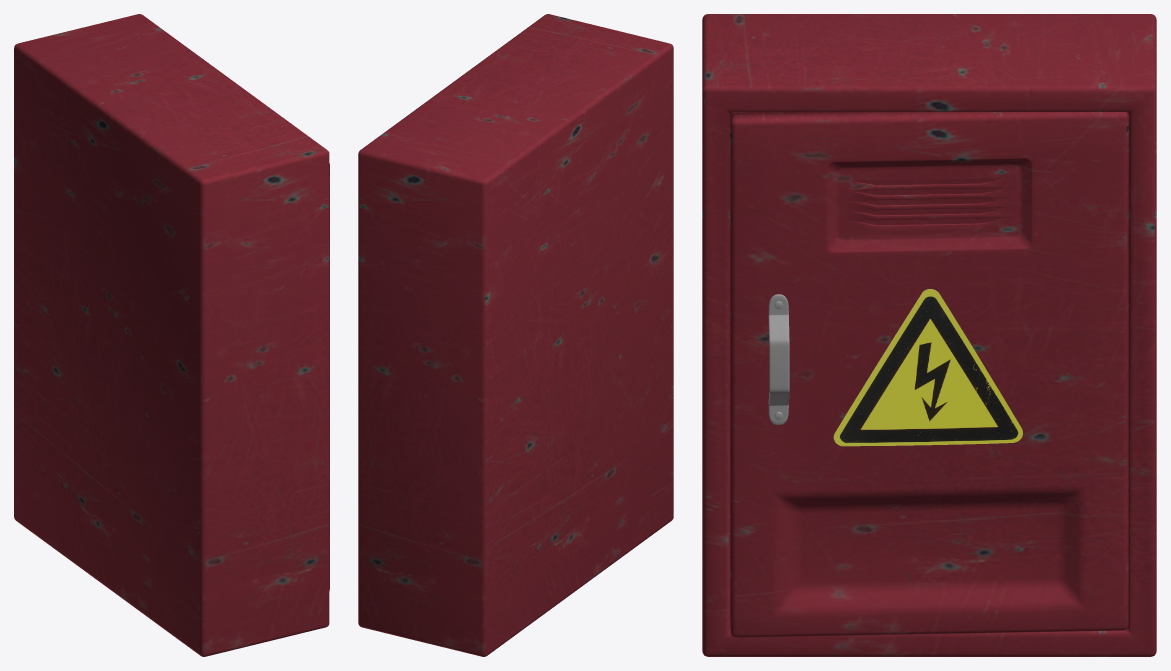
Rendered from firebox.fbx.
3 renders of one model, left to right at view 1: azimuth 30°, elevation 25°; view 2: azimuth 150°, elevation 25°; view 3: azimuth 270°, elevation 25°, orthographic. The views are drawn at different scales.
Parts seen in each view (by area): view 1: Housing; view 2: Housing; view 3: Door, Housing, WarningSign.
Boxes of the visible parts, x1,y1,x2,y2 form: Housing: (14, 14, 329, 656); Housing: (358, 14, 673, 656); Door: (730, 112, 1128, 637); Housing: (702, 14, 1156, 656); WarningSign: (833, 289, 1022, 446).
Size of the model in its own units: 111 by 330 by 238.
